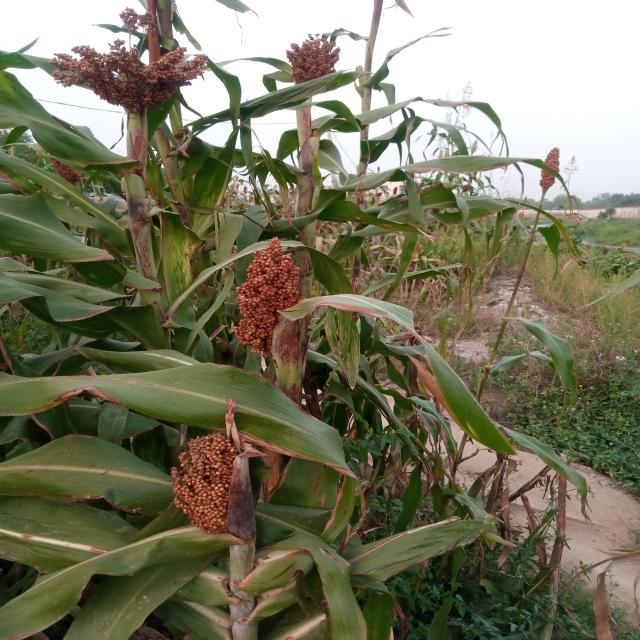RipeSorghum: (163, 417, 285, 553), (226, 226, 323, 360)
